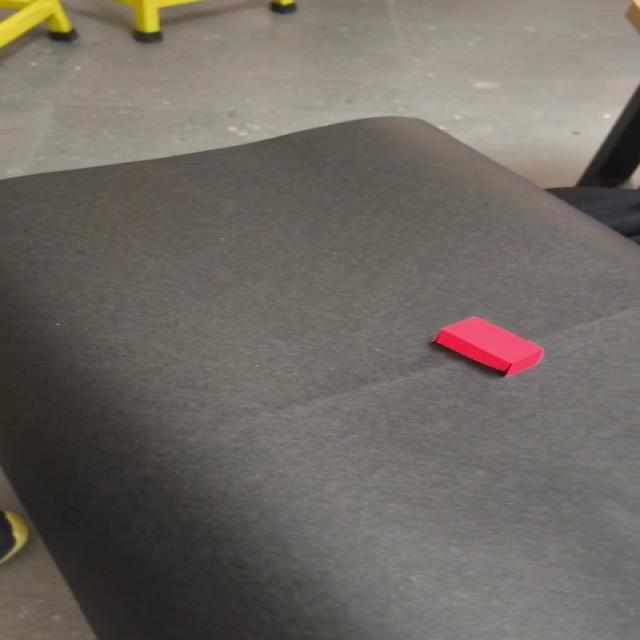red block: (431, 316, 544, 377)
